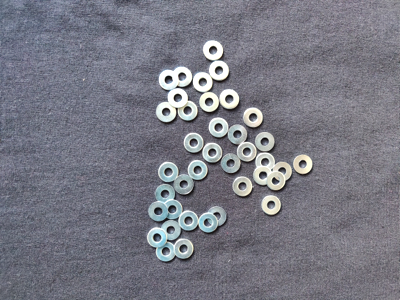circle: (241, 107, 266, 129), (200, 40, 225, 61), (147, 227, 170, 249), (162, 199, 185, 221), (154, 241, 178, 262), (293, 153, 314, 177), (232, 175, 254, 197), (174, 174, 196, 196), (254, 132, 276, 154), (198, 212, 219, 235), (154, 183, 177, 204), (220, 152, 241, 175), (177, 99, 198, 122), (202, 142, 224, 163), (237, 142, 258, 164), (219, 89, 241, 110), (156, 101, 177, 123), (167, 88, 189, 109), (158, 69, 180, 90), (209, 61, 231, 82), (261, 195, 282, 216), (207, 206, 228, 227), (160, 221, 181, 242), (158, 162, 179, 183), (210, 117, 231, 138), (179, 210, 199, 232), (200, 92, 220, 114), (187, 161, 208, 181), (183, 133, 204, 153), (266, 172, 287, 192), (253, 168, 274, 188), (254, 152, 275, 172), (228, 125, 248, 146), (173, 66, 193, 87), (193, 72, 214, 92), (273, 162, 293, 182), (173, 240, 194, 259), (148, 202, 168, 221)
